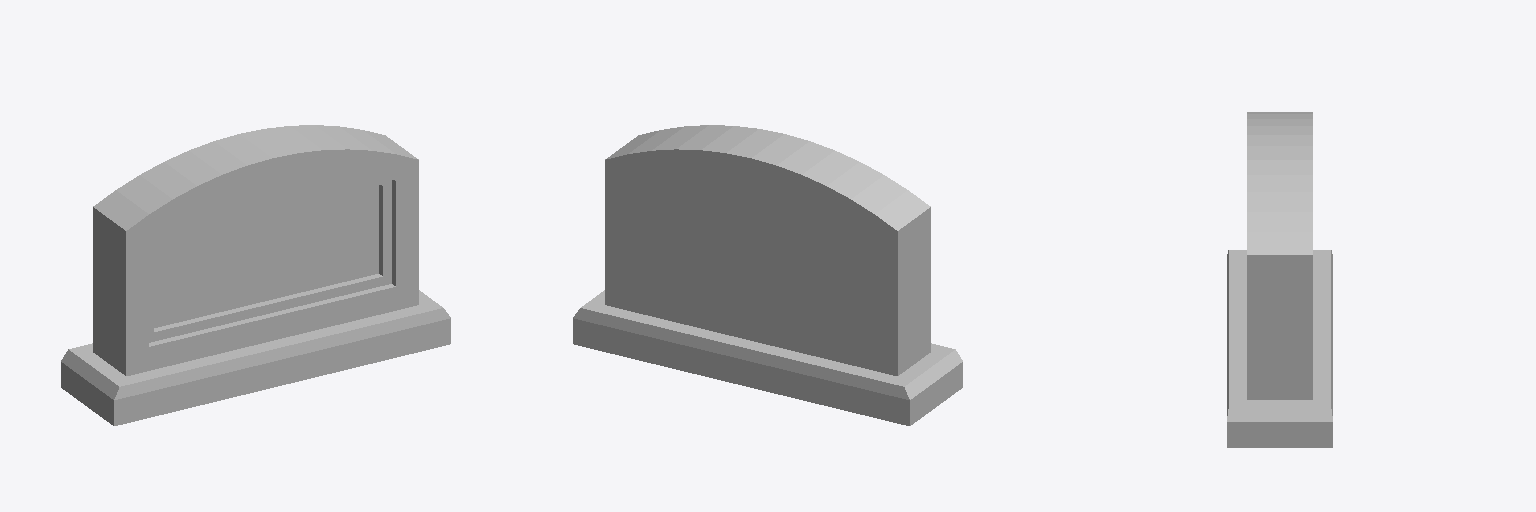
The model's file is gravestoneWide.obj.
3 views of the same model, side by side, from view 1: azimuth 30°, elevation 25°; view 2: azimuth 150°, elevation 25°; view 3: azimuth 270°, elevation 25° (orthographic).
Visible parts, largest first — view 1: gravestoneWide; view 2: gravestoneWide; view 3: gravestoneWide.
Part boxes in pixels (x1,y1,x2,y2): gravestoneWide: (61, 125, 450, 425); gravestoneWide: (573, 125, 962, 425); gravestoneWide: (1227, 112, 1332, 447).
Bounding box in the file's own units: 0.7866 × 0.4897 × 0.2158.